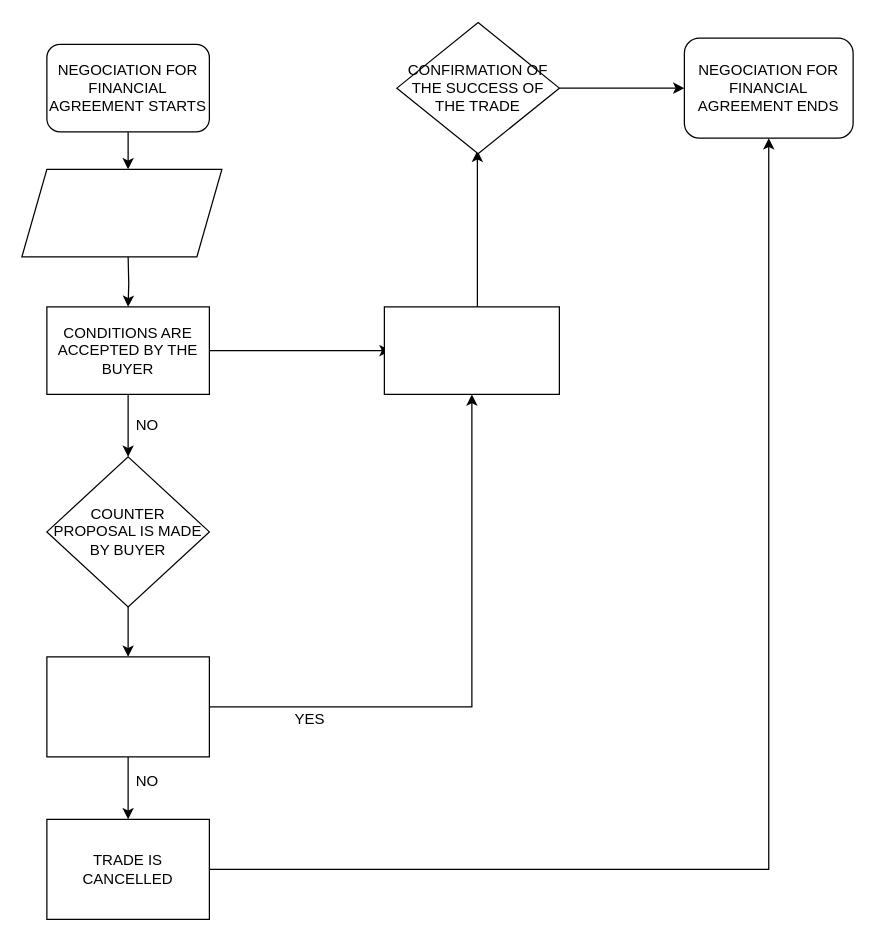
This 875x941 diagram has some shape labels left out. The shapes that lost their labels are listed below. From the top down, each one's centre as x and y in pixels, then its label:
At point 121,212: "FINANCIER MAKES A PROPOSAL TO BUYER".
At point 471,350: "AGREED AMOUNT LOCKED".
At point 127,706: "COUNTER PROPOSAL CONDITIONS ARE ACCEPTED BY THE FINANCIER".
